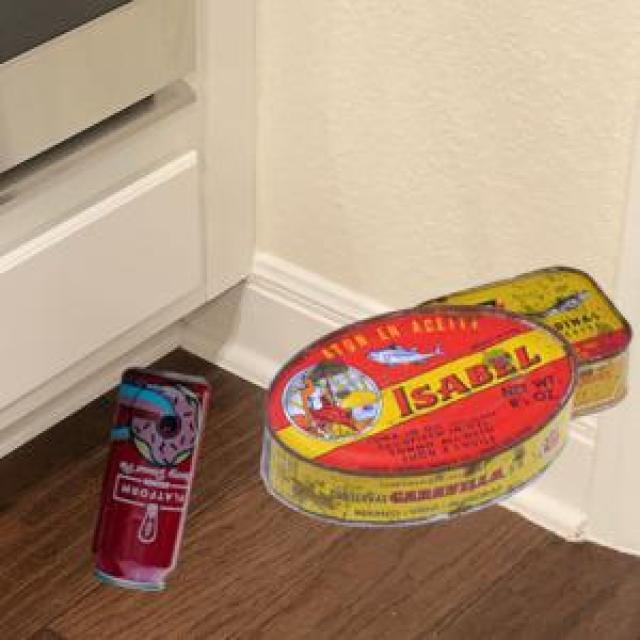logam: (257, 304, 575, 524), (415, 263, 628, 415), (89, 366, 208, 586)
